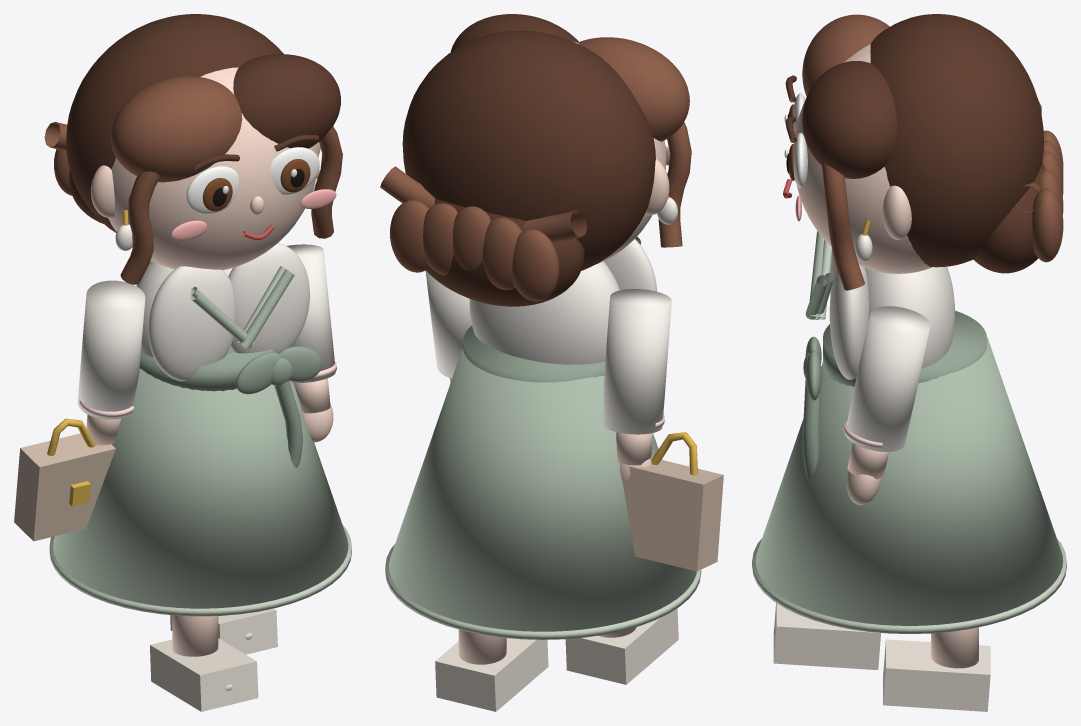
Rendered from guest-05-master.glb.
3 renders of one model, left to right at view 1: azimuth 30°, elevation 25°; view 2: azimuth 150°, elevation 25°; view 3: azimuth 270°, elevation 25°, orthographic. The views are drawn at different scales.
Visible parts, largest first — view 1: Chima, Hair back, Head, Hair left crown, Hair right crown, Wide sleeve -1, Guest05 right-hand handbag, Left jeogori panel, Right jeogori panel, Flower shoe -1, Wide sleeve 1, Chima hem (+24 smaller); view 2: Chima, Hair back, Torso, Guest05 right-hand handbag, Wide sleeve -1, Hair left crown, Flower shoe 1, Flower shoe -1, Low bun, Chima hem, High waist, Wide sleeve 1 (+14 smaller); view 3: Chima, Hair back, Hair right crown, Wide sleeve 1, Head, Flower shoe 1, Flower shoe -1, Torso, Right jeogori panel, Chima hem, Hair left crown, Low bun (+12 smaller).
Part boxes in pixels (x1,y1,x2,y2): Chima: (53,368,348,608); Hair back: (66,14,283,232); Head: (108,67,318,269); Hair left crown: (110,76,242,182); Hair right crown: (233,54,340,148); Wide sleeve -1: (77,280,145,419); Guest05 right-hand handbag: (14,433,115,541); Left jeogori panel: (148,266,234,381); Right jeogori panel: (228,243,309,353); Flower shoe -1: (150,638,258,711); Wide sleeve 1: (287,244,335,382); Chima hem: (49,525,351,616); Chima: (389,348,696,631); Hair back: (402,30,655,270); Torso: (469,261,619,364); Guest05 right-hand handbag: (622,457,723,571); Wide sleeve -1: (603,289,671,434); Hair left crown: (578,37,689,141); Flower shoe 1: (435,638,548,711); Flower shoe -1: (565,608,678,684); Low bun: (426,199,584,306); Chima hem: (385,544,701,639); High waist: (463,325,605,382); Wide sleeve 1: (425,271,471,378); Chima: (755,337,1063,625); Hair back: (870,14,1043,267); Hair right crown: (802,61,896,178); Wide sleeve 1: (845,306,930,451); Head: (793,44,932,273); Flower shoe 1: (883,639,990,711); Flower shoe -1: (773,603,880,669); Torso: (865,266,954,368); Right jeogori panel: (829,265,868,379); Chima hem: (752,538,1066,633); Hair left crown: (802,14,889,96); Low bun: (973,151,1045,273).
Size of the model in its own units: 1.57 by 3.16 by 1.38.
